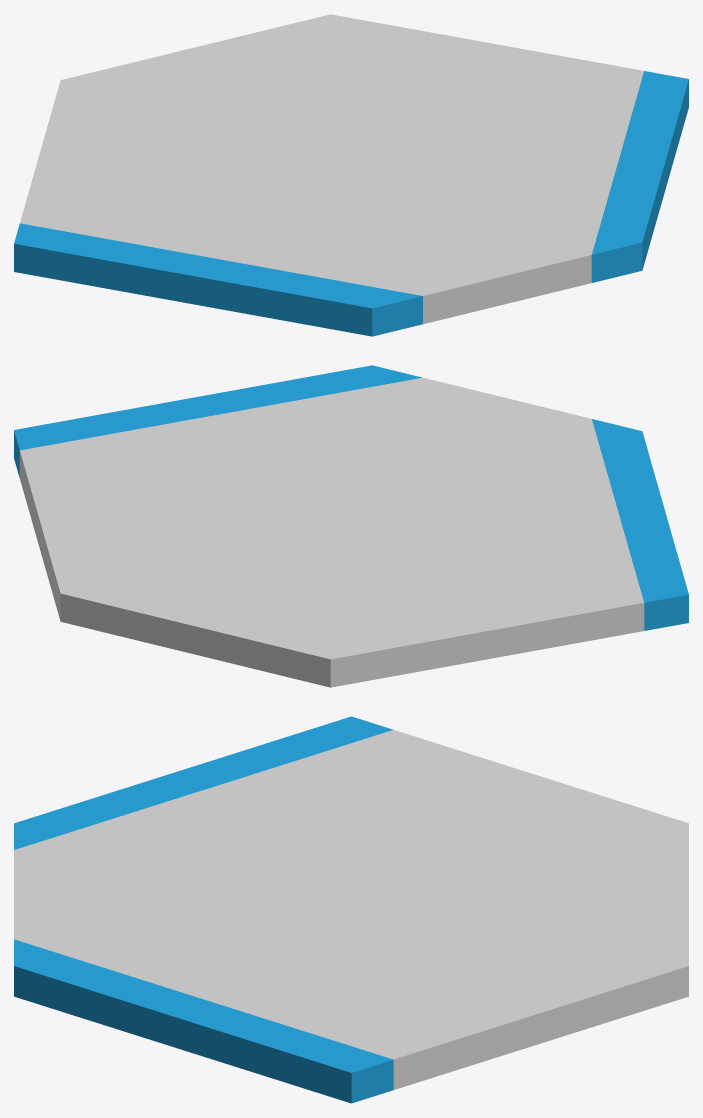
The picture shows the model from 3 angles, top to bottom: view 1: azimuth 30°, elevation 25°; view 2: azimuth 150°, elevation 25°; view 3: azimuth 270°, elevation 25°; orthographic projection. The views are drawn at different scales.
Parts seen in each view (by area): view 1: Hexagon, SW, SE; view 2: Hexagon, SW, SE; view 3: Hexagon, SE, SW.
Boxes of the visible parts, bbox=[...] form: Hexagon: bbox=[20, 14, 643, 324]; SW: bbox=[14, 223, 422, 336]; SE: bbox=[591, 71, 688, 282]; Hexagon: bbox=[19, 377, 644, 687]; SW: bbox=[592, 419, 688, 630]; SE: bbox=[14, 365, 421, 477]; Hexagon: bbox=[14, 730, 688, 1089]; SE: bbox=[14, 939, 393, 1103]; SW: bbox=[14, 716, 393, 849].
Bounding box in the file's own units: 5 × 4 × 0.2.
